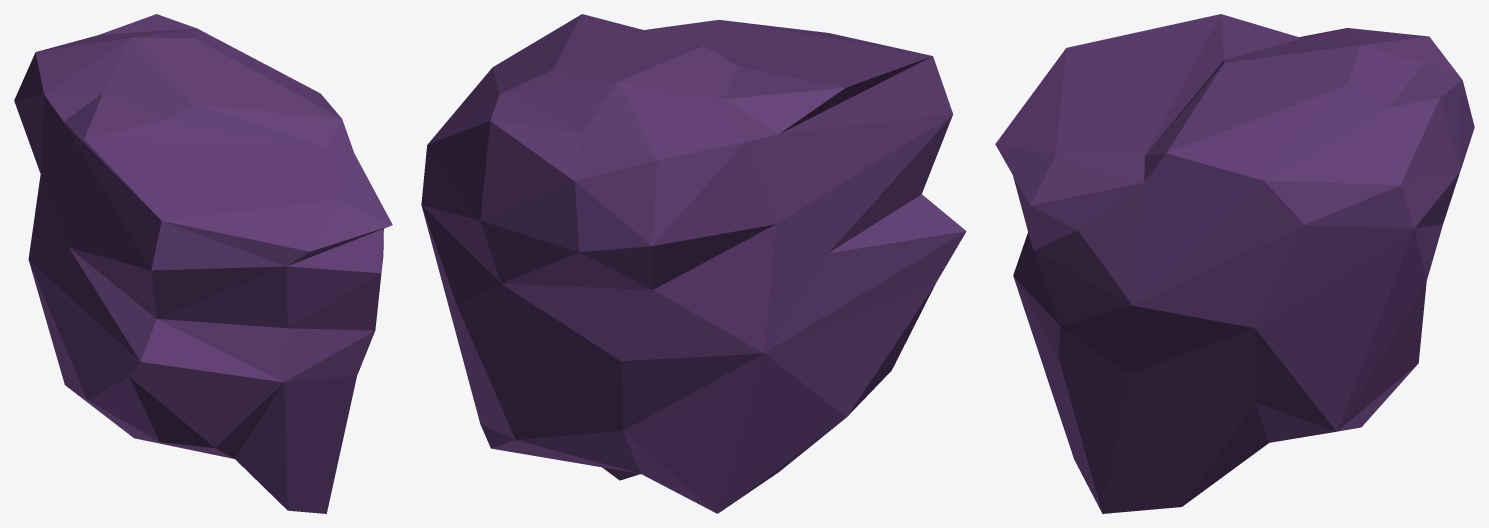
Rendered from Rock_15.fbx.
The picture shows the model from 3 angles, left to right: view 1: azimuth 30°, elevation 25°; view 2: azimuth 150°, elevation 25°; view 3: azimuth 270°, elevation 25°; orthographic projection. The views are drawn at different scales.
Visible parts, largest first — view 1: rock_model.025; view 2: rock_model.025; view 3: rock_model.025.
Part boxes in pixels (<box>): rock_model.025: <box>14,14,392,513</box>; rock_model.025: <box>421,14,966,513</box>; rock_model.025: <box>995,14,1474,513</box>.
Size of the model in its own units: 192 by 256 by 259.
